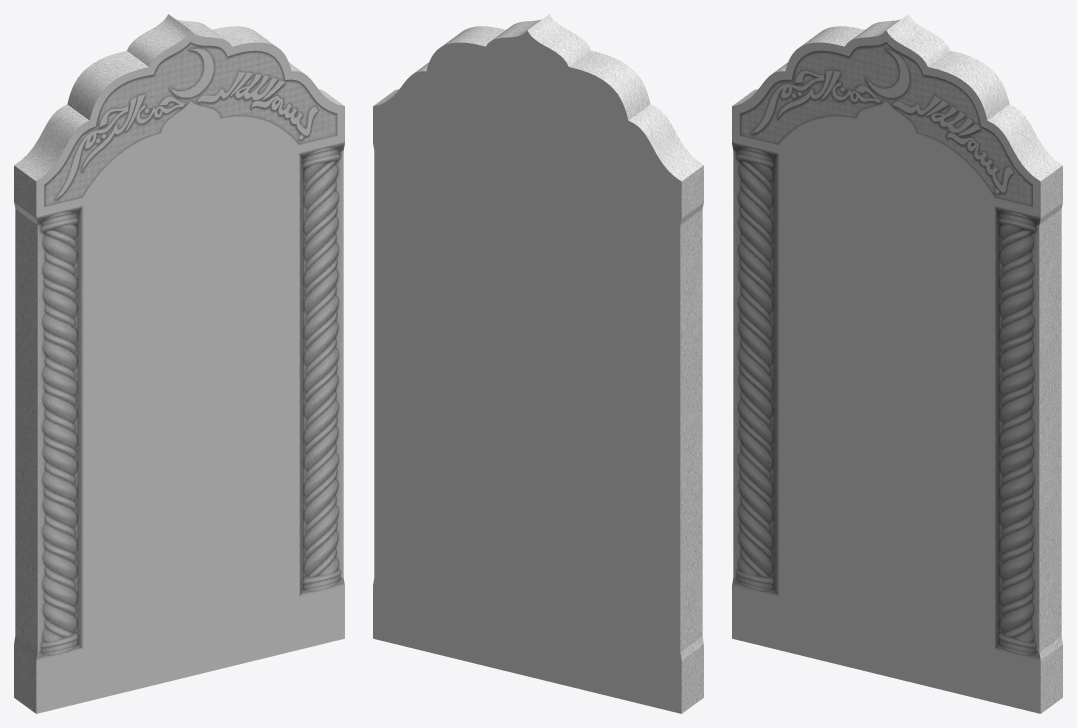
Rendered from cn21eff100ae_tkf.glb.
3 views of the same model, side by side, from view 1: azimuth 30°, elevation 25°; view 2: azimuth 150°, elevation 25°; view 3: azimuth 330°, elevation 25° (orthographic).
Visible parts, largest first — view 1: Pam-d03-158, Pam-d03-158_2_notexture; view 2: Pam-d03-158, Pam-d03-158_2_notexture; view 3: Pam-d03-158, Pam-d03-158_2_notexture.
Part boxes in pixels (x1=…): Pam-d03-158: x1=37, y1=33, x2=343, y2=713; Pam-d03-158_2_notexture: x1=14, y1=14, x2=344, y2=713; Pam-d03-158: x1=373, y1=30, x2=681, y2=713; Pam-d03-158_2_notexture: x1=374, y1=14, x2=703, y2=713; Pam-d03-158: x1=733, y1=33, x2=1039, y2=713; Pam-d03-158_2_notexture: x1=732, y1=14, x2=1062, y2=713.
Bounding box in the file's own units: 0.4 × 0.8 × 0.05.
Materials: 1 (1 with a texture image).
